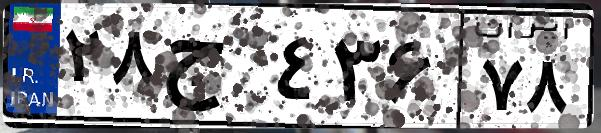2: (57, 26, 110, 100)
3: (330, 28, 385, 110)
4: (270, 28, 330, 110)
6: (385, 28, 445, 110)
7: (475, 38, 525, 113)
8: (525, 38, 570, 115), (110, 28, 158, 98)
ج: (158, 20, 270, 120)
